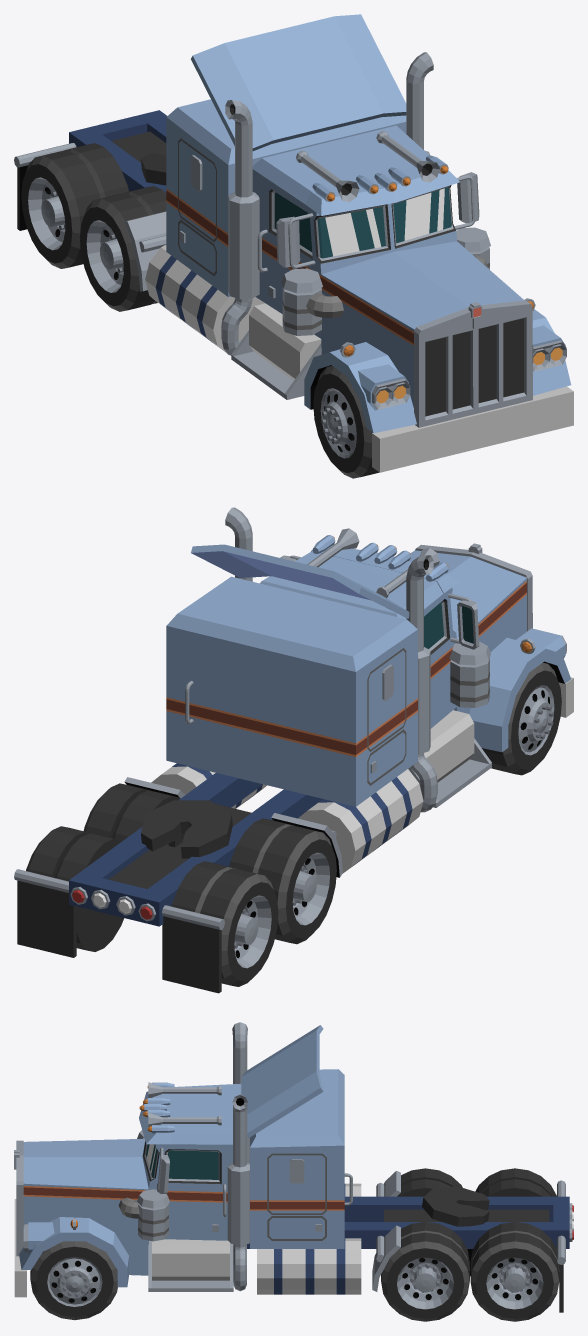
Rendered from cv-kenworth.glb.
3 renders of one model, top to bottom at view 1: azimuth 30°, elevation 25°; view 2: azimuth 150°, elevation 25°; view 3: azimuth 270°, elevation 25°, orthographic. The views are drawn at different scales.
Parts seen in each view (by area): view 1: Object_4; view 2: Object_4; view 3: Object_4.
Part boxes in pixels (left/top/right/bottom): Object_4: left=14, top=14, right=573, bottom=478; Object_4: left=14, top=507, right=573, bottom=993; Object_4: left=14, top=1022, right=573, bottom=1321.
Size of the model in its own units: 2.89 by 3.93 by 8.5.
1 material, 1 textured.
